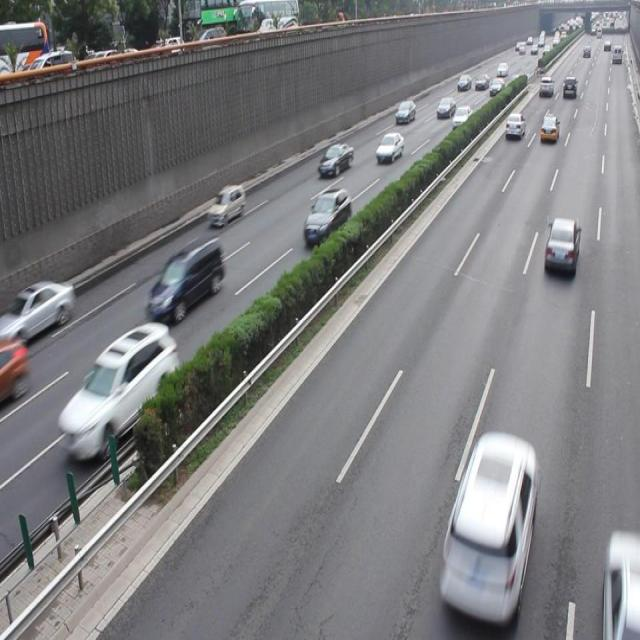car: (55, 320, 181, 462), (441, 434, 536, 608), (9, 278, 75, 342), (302, 188, 352, 245), (542, 217, 578, 280), (207, 182, 244, 226), (316, 139, 352, 177)
truck: (144, 234, 225, 325)
